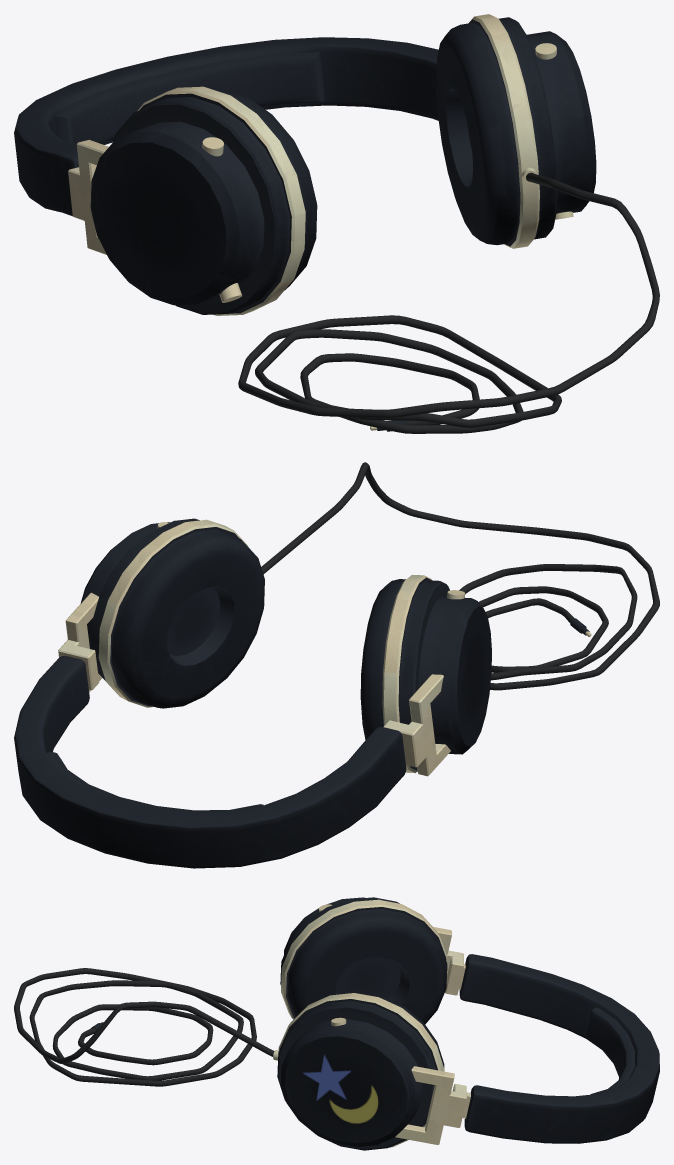
Rendered from headphones.gltf.
3 views of the same model, one above another, from view 1: azimuth 30°, elevation 25°; view 2: azimuth 150°, elevation 25°; view 3: azimuth 270°, elevation 25° (orthographic). The views are drawn at different scales.
Visible parts, largest first — view 1: headphones; view 2: headphones; view 3: headphones.
Boxes of the visible parts, x1,y1,x2,y2 form: headphones: (14, 14, 659, 433); headphones: (14, 462, 659, 868); headphones: (14, 897, 659, 1150).
Size of the model in its own units: 2.65 by 1.14 by 4.47.
3 materials, 3 textured.
